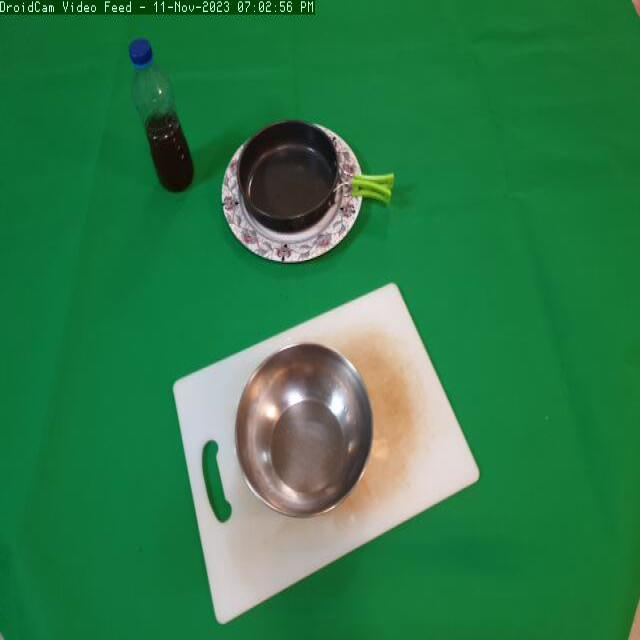bowl: (222, 336, 389, 535)
cutting board: (152, 277, 494, 635)
fullbottle: (125, 31, 198, 200)
pan: (236, 122, 398, 237)
plate: (220, 119, 369, 270)
